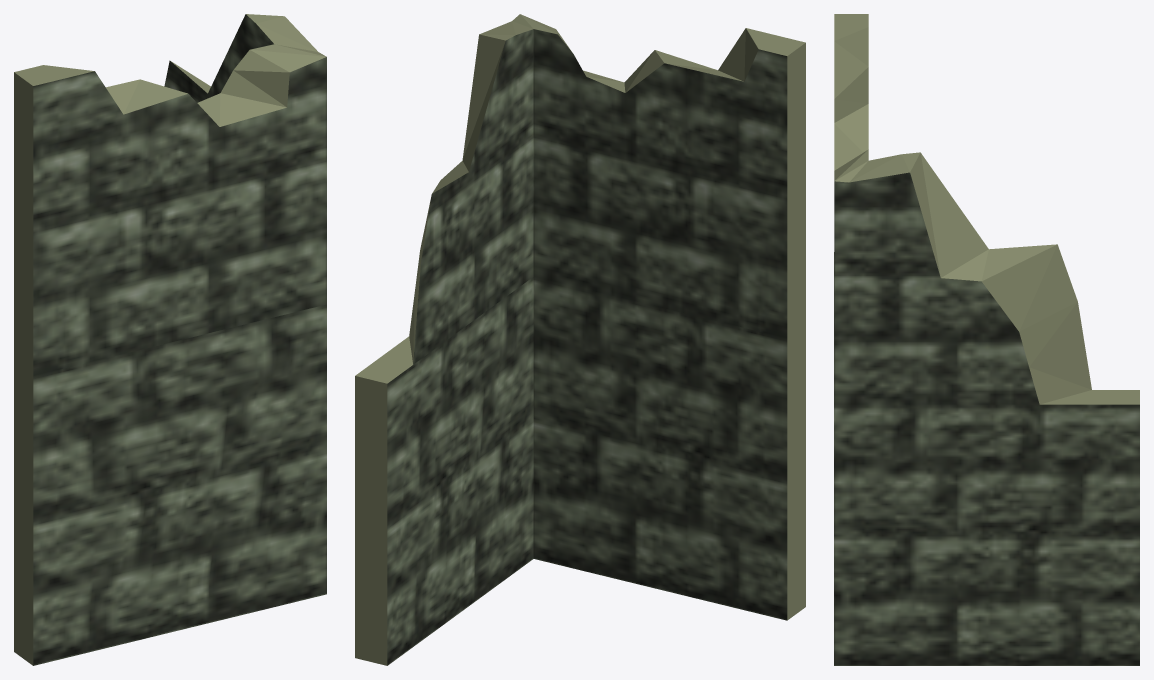
Rendered from ruins_grid_77_1.glb.
The picture shows the model from 3 angles, left to right: view 1: azimuth 30°, elevation 25°; view 2: azimuth 150°, elevation 25°; view 3: azimuth 270°, elevation 25°; orthographic projection. The views are drawn at different scales.
Visible parts, largest first — view 1: ruins_grid_77_1; view 2: ruins_grid_77_1; view 3: ruins_grid_77_1.
Boxes of the visible parts, <box> form: ruins_grid_77_1: <box>14,14,326,665</box>; ruins_grid_77_1: <box>355,14,805,665</box>; ruins_grid_77_1: <box>834,14,1139,665</box>.
Bounding box in the file's own units: 2.12 × 4 × 2.12.
2 materials, 1 textured.
